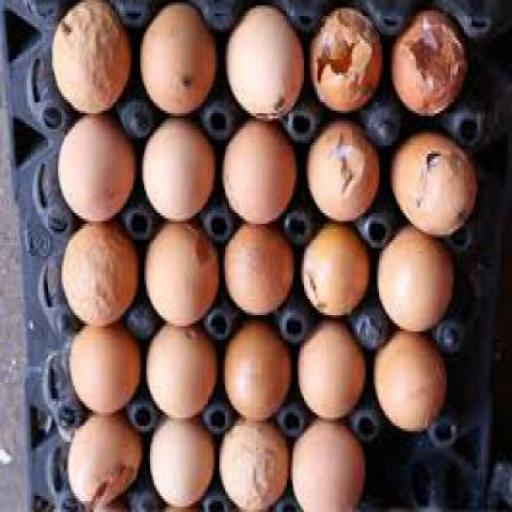biodegradable: (389, 130, 475, 242), (223, 8, 300, 126), (50, 3, 128, 119), (134, 8, 214, 119), (387, 10, 463, 124), (56, 116, 135, 224), (60, 224, 138, 330), (141, 224, 217, 330), (138, 113, 212, 221), (302, 120, 377, 226), (308, 13, 382, 119), (221, 120, 295, 226), (372, 331, 443, 437), (379, 234, 453, 332), (65, 415, 139, 511), (298, 223, 368, 323), (142, 329, 214, 423), (288, 422, 364, 511), (297, 328, 363, 426), (222, 226, 290, 320), (222, 326, 286, 424), (217, 428, 288, 511), (146, 420, 212, 509), (68, 332, 136, 418)
